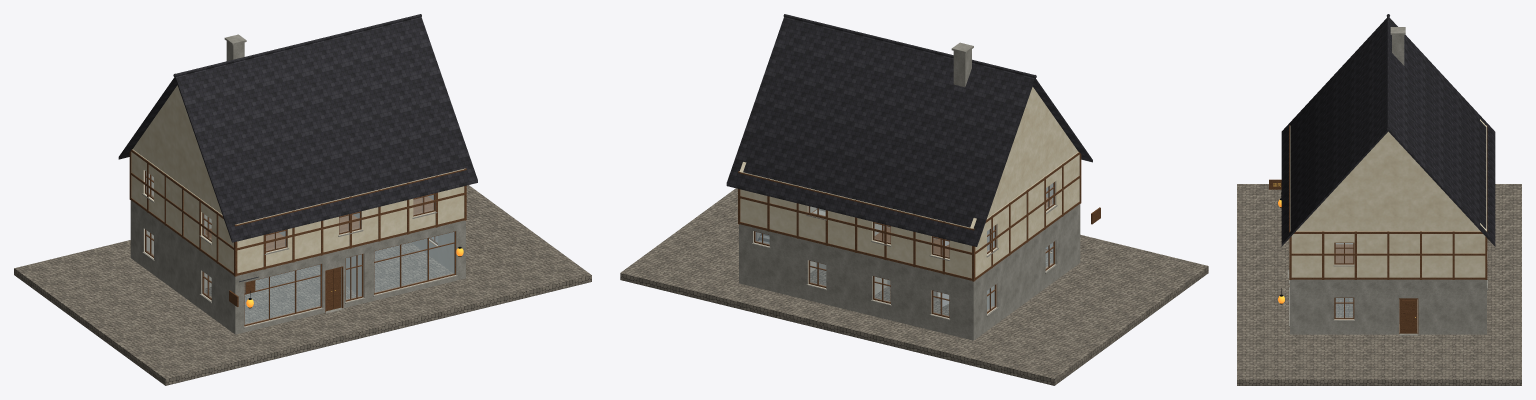
Rendered from b_medieval_tavern.gltf.
3 views of the same model, side by side, from view 1: azimuth 30°, elevation 25°; view 2: azimuth 150°, elevation 25°; view 3: azimuth 270°, elevation 25° (orthographic). The views are drawn at different scales.
Parts seen in each view (by area): view 1: S_medieval_tavern; view 2: S_medieval_tavern; view 3: S_medieval_tavern, D_medieval_tavern_F1_E1_Door0.
Part boxes in pixels (x1,y1,x2,y2): S_medieval_tavern: (14,14,591,385); S_medieval_tavern: (620,14,1208,385); S_medieval_tavern: (1237,14,1521,385); D_medieval_tavern_F1_E1_Door0: (1400,299,1417,333).
Bounding box in the file's own units: 26 × 14.35 × 16.
Materials: 19 (12 with a texture image).
